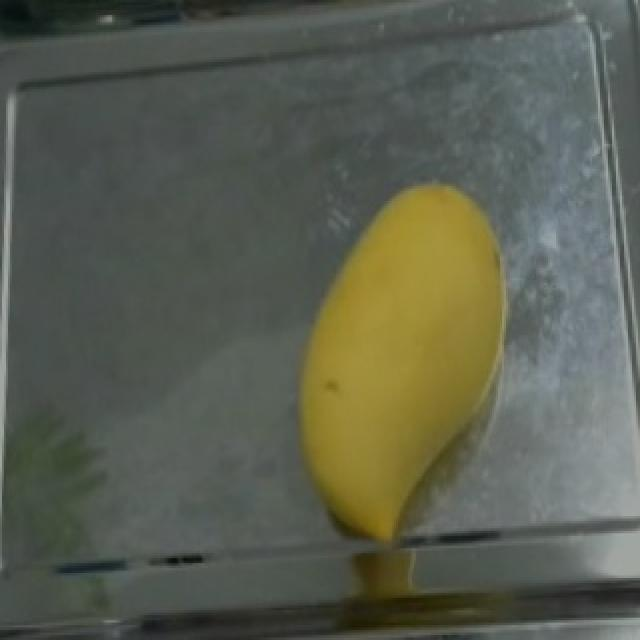fruit: (276, 166, 534, 538)
